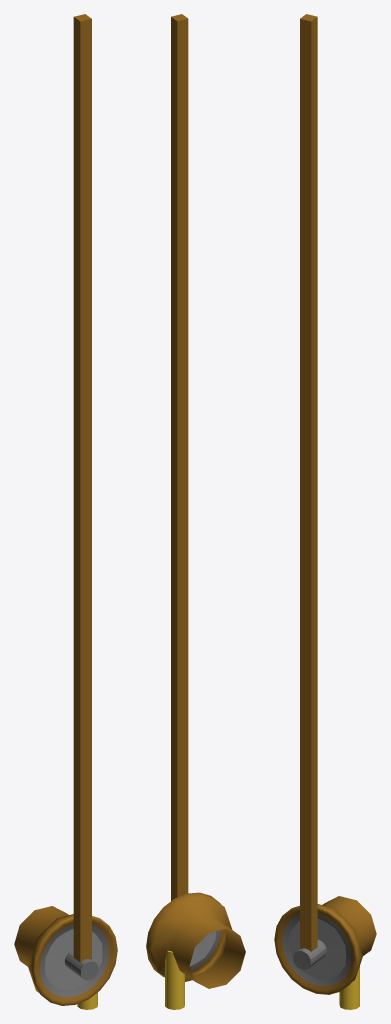
The model's file is geo_PulleyRight.fbx.
The picture shows the model from 3 angles, left to right: view 1: azimuth 30°, elevation 25°; view 2: azimuth 210°, elevation 25°; view 3: azimuth 330°, elevation 25°; orthographic projection. The views are drawn at different scales.
Parts seen in each view (by area): view 1: polySurface3, polySurface2; view 2: polySurface3, polySurface2, polySurface4; view 3: polySurface3, polySurface2, polySurface4.
Part boxes in pixels (box(x1,y1,x2,y2)): polySurface3: box(73, 14, 91, 962); polySurface2: box(14, 906, 117, 1005); polySurface3: box(171, 14, 188, 900); polySurface2: box(146, 892, 245, 988); polySurface4: box(165, 950, 184, 1009); polySurface3: box(300, 14, 317, 951); polySurface2: box(274, 896, 376, 994); polySurface4: box(339, 966, 359, 1009).
Size of the model in its own units: 25.44 by 288 by 23.98.
Materials: 1 (1 with a texture image).
